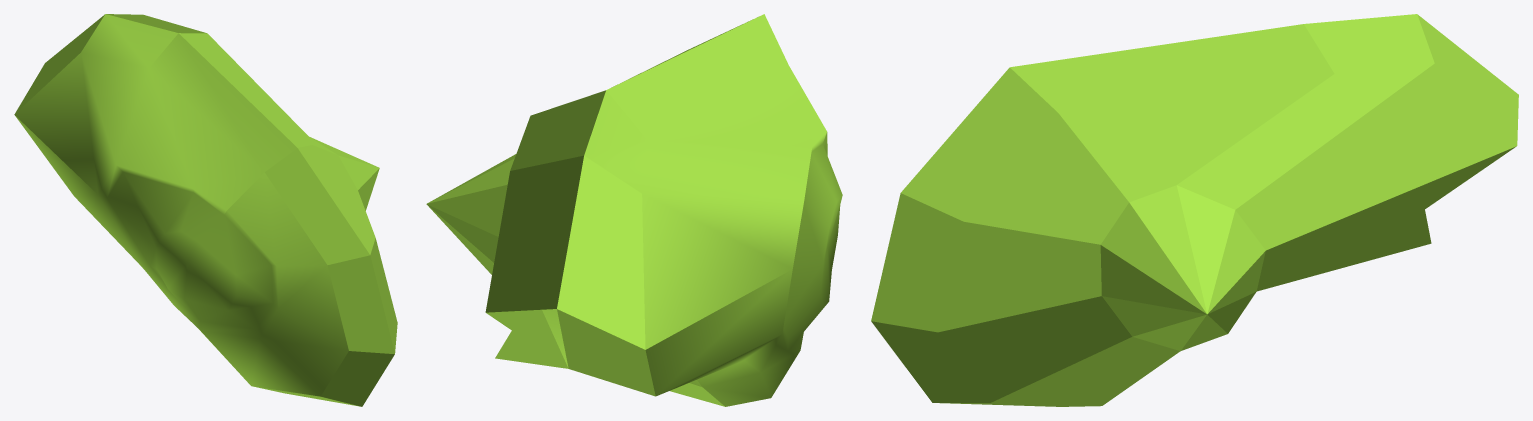
The model's file is Globus01b.fbx.
The picture shows the model from 3 angles, left to right: view 1: azimuth 30°, elevation 25°; view 2: azimuth 150°, elevation 25°; view 3: azimuth 270°, elevation 25°; orthographic projection. The views are drawn at different scales.
Parts seen in each view (by area): view 1: globus; view 2: globus; view 3: globus.
Part boxes in pixels (x1,y1,x2,y2): globus: (14,14,397,406); globus: (426,14,842,406); globus: (871,14,1518,406).
Bounding box in the file's own units: 926 × 966 × 1508.
